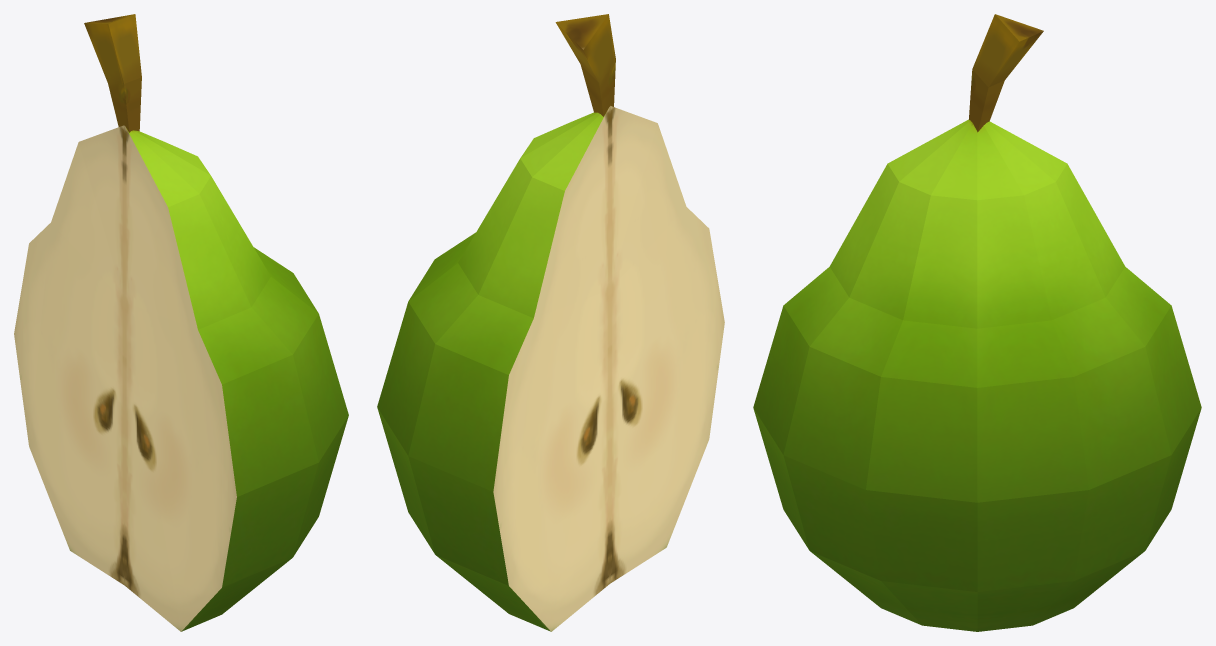
The model's file is pear_half.gltf.
3 views of the same model, side by side, from view 1: azimuth 30°, elevation 25°; view 2: azimuth 150°, elevation 25°; view 3: azimuth 270°, elevation 25° (orthographic). The views are drawn at different scales.
Parts seen in each view (by area): view 1: fruis_and_vegetables.046; view 2: fruis_and_vegetables.046; view 3: fruis_and_vegetables.046.
Part boxes in pixels (x1=…): fruis_and_vegetables.046: x1=14, y1=14, x2=348, y2=631; fruis_and_vegetables.046: x1=377, y1=14, x2=724, y2=631; fruis_and_vegetables.046: x1=753, y1=14, x2=1201, y2=631.
Size of the model in its own units: 0.0765 by 0.2034 by 0.146.
Materials: 1 (1 with a texture image).
